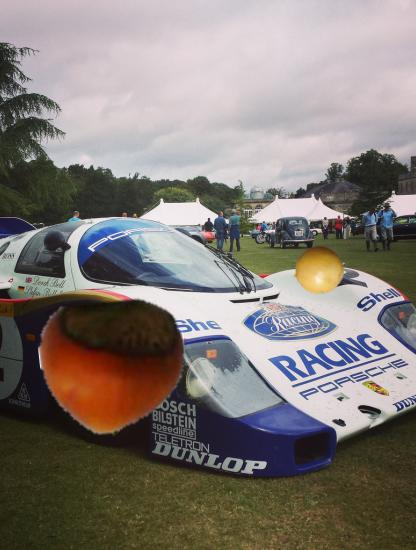Grapefruit: (295, 244, 347, 296)
Nut: (40, 294, 187, 441)
